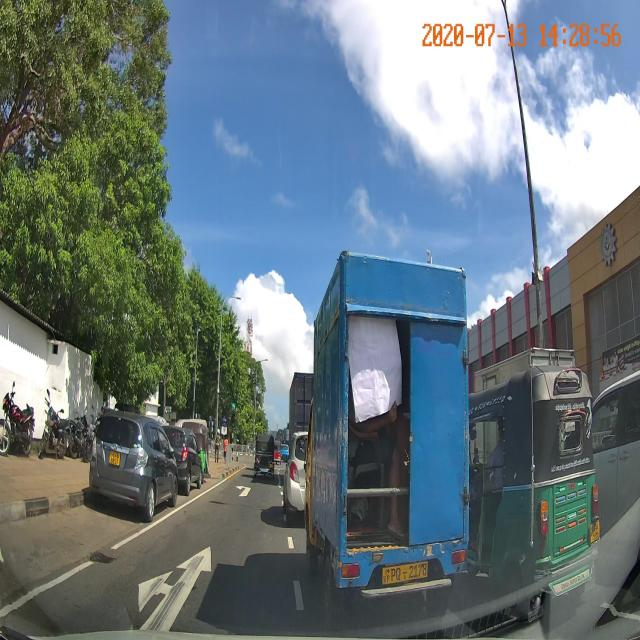forward_lft: (7, 508, 311, 634)
